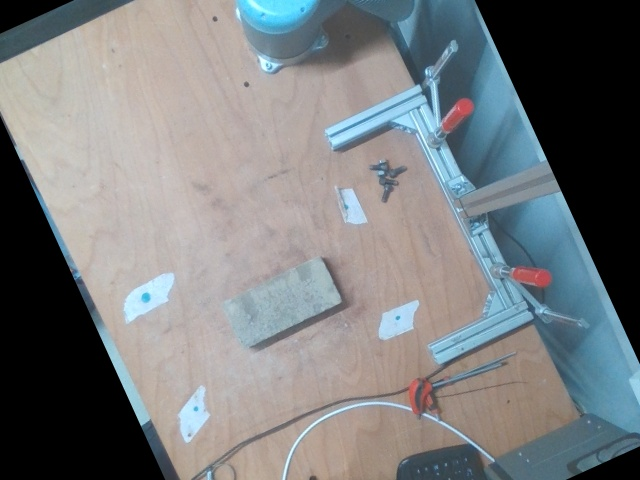brick: (225, 259, 339, 347)
